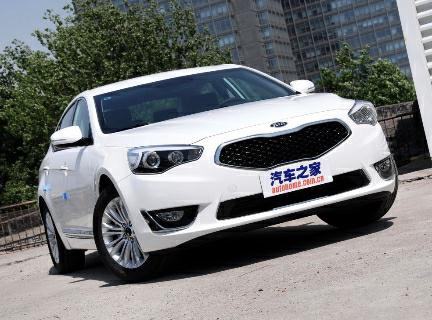起亚-凯尊: (34, 65, 406, 274)
